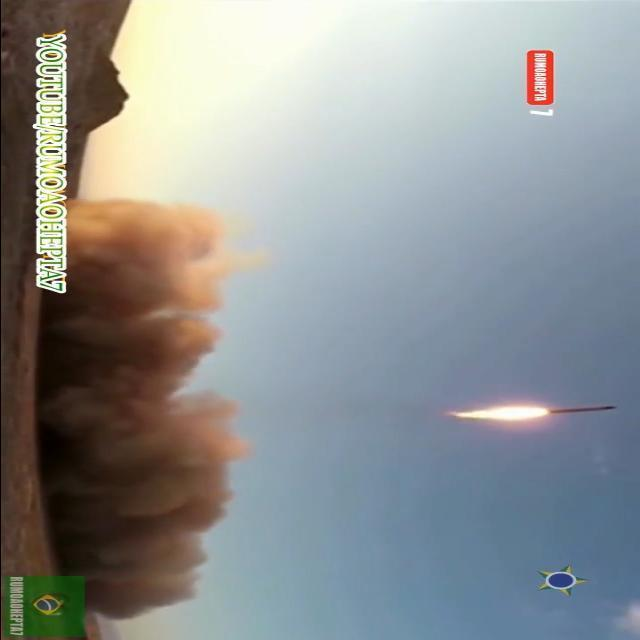missile: (552, 403, 618, 417)
